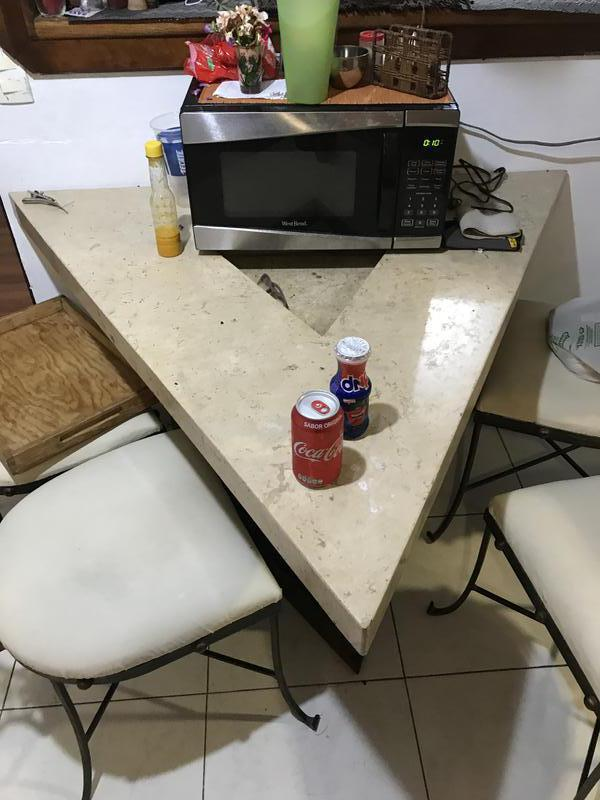coca_cola: (290, 393, 346, 493)
danup: (330, 337, 375, 445)
